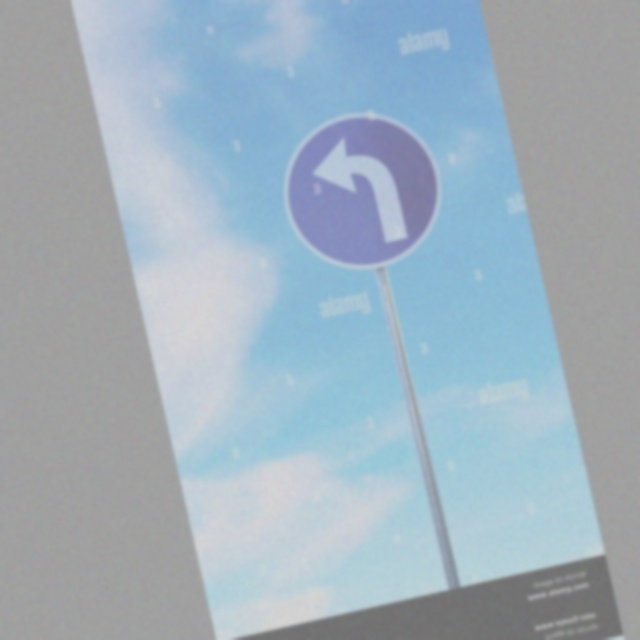Compulsory_Turn_Left_Ahead: (274, 96, 455, 288)
